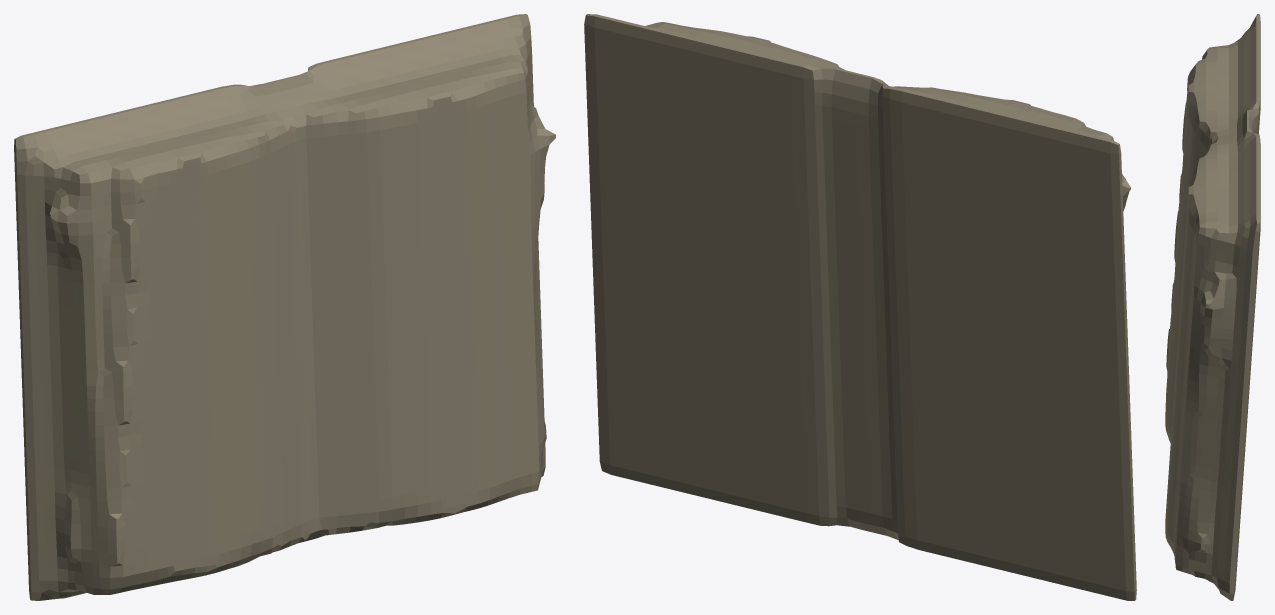
File: Open Book-Remesh.glb
The picture shows the model from 3 angles, left to right: view 1: azimuth 30°, elevation 25°; view 2: azimuth 150°, elevation 25°; view 3: azimuth 270°, elevation 25°; orthographic projection. The views are drawn at different scales.
Parts seen in each view (by area): view 1: Book1_Open; view 2: Book1_Open; view 3: Book1_Open.
Part boxes in pixels (x1,y1,x2,y2): Book1_Open: (14,14,555,600); Book1_Open: (584,14,1136,600); Book1_Open: (1165,14,1260,600).
Bounding box in the file's own units: 1.36 × 1.15 × 0.2607.
